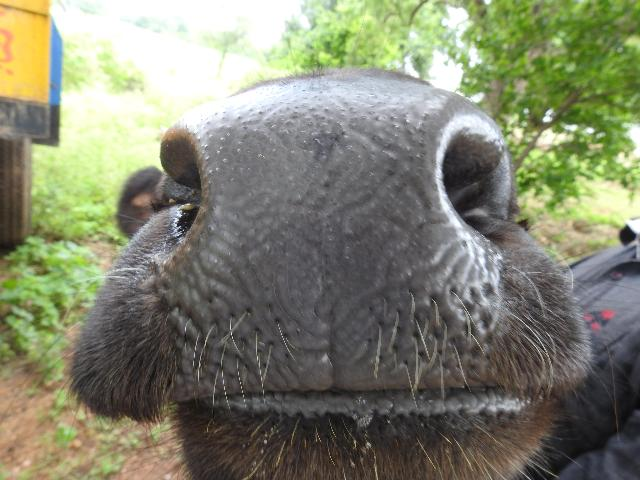Muzzle: (213, 113, 442, 390)
